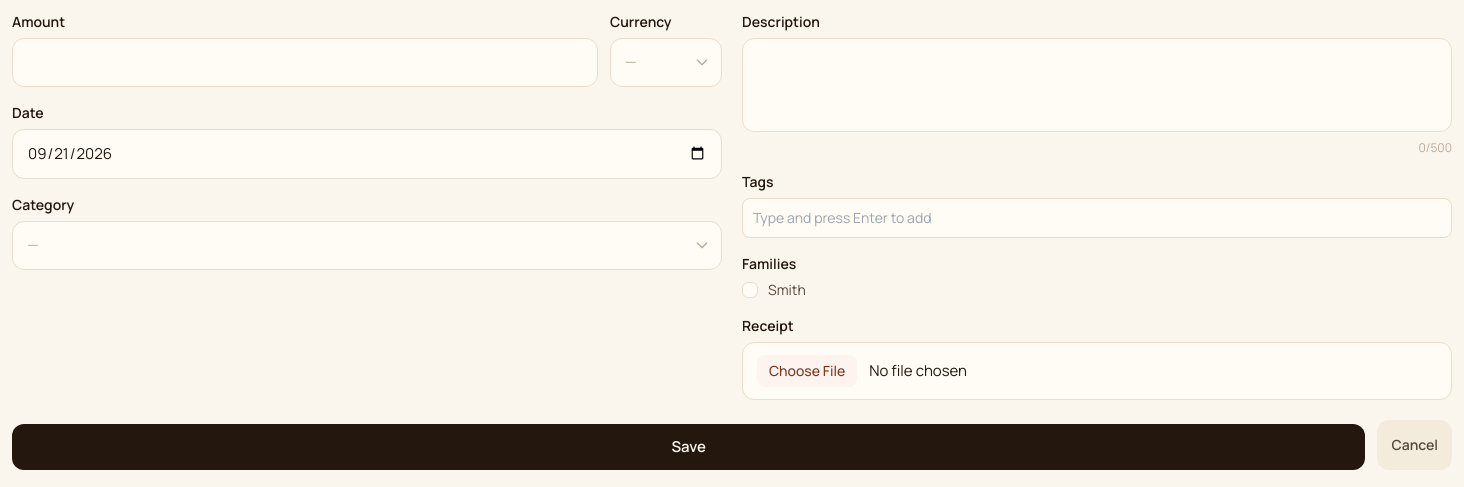
Test: ExpenseForm › rendering › renders currency options from context
Focus the dropdown labelled "Currency" at (666, 62), box [610,38,722,86]
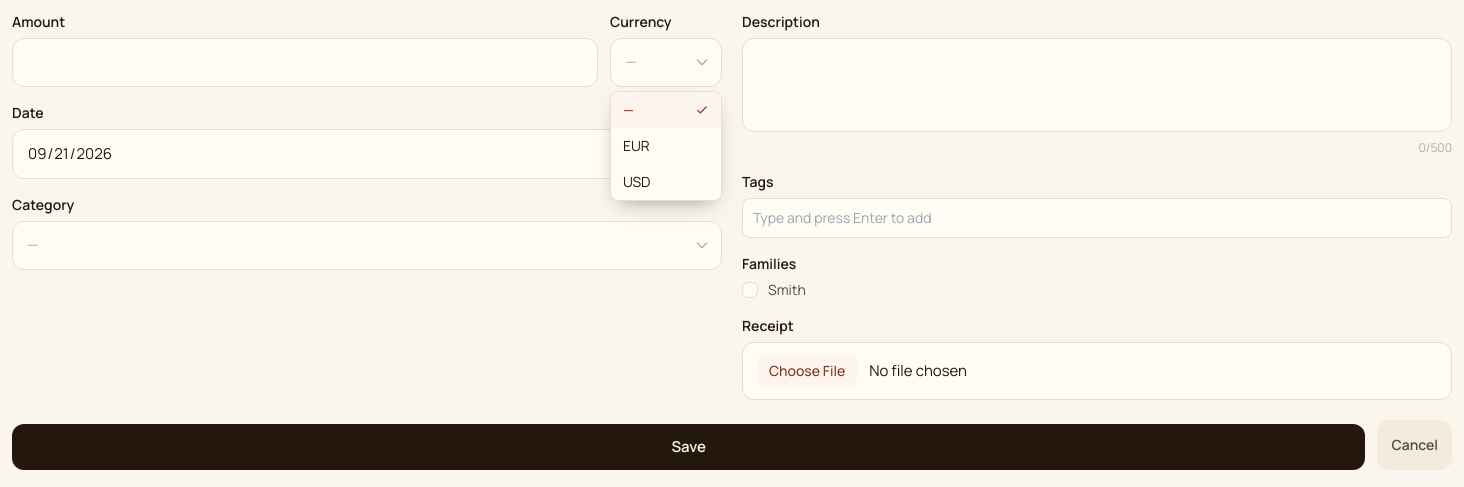
expect the option "EUR" is shown: met, box [623,136,650,155]
expect the option "USD" is shown: met, box [623,172,650,191]
